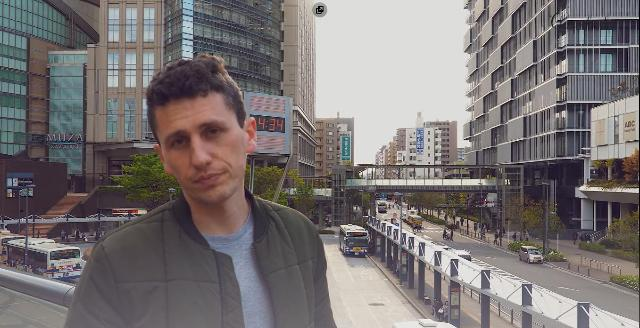bus: (8, 239, 83, 283), (340, 223, 370, 259), (410, 214, 423, 227), (377, 202, 387, 213)
car: (517, 244, 543, 267)
